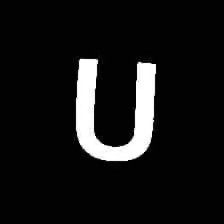LTR_U: (63, 51, 168, 163)
